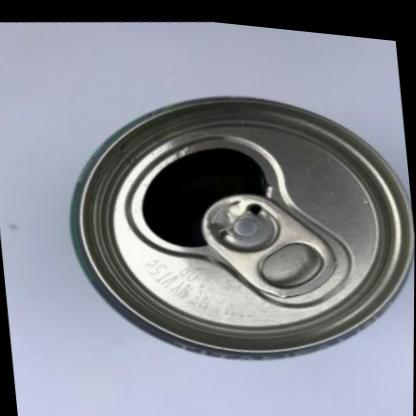Metal: (70, 89, 415, 351)
